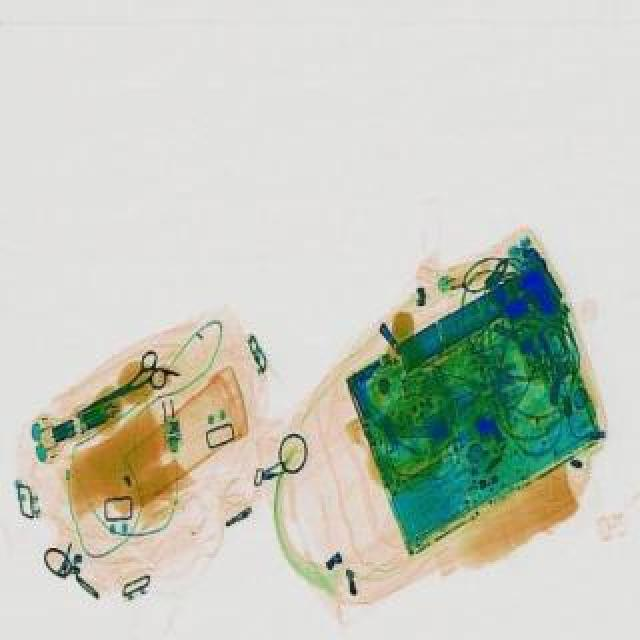pliers: (64, 348, 172, 428)
